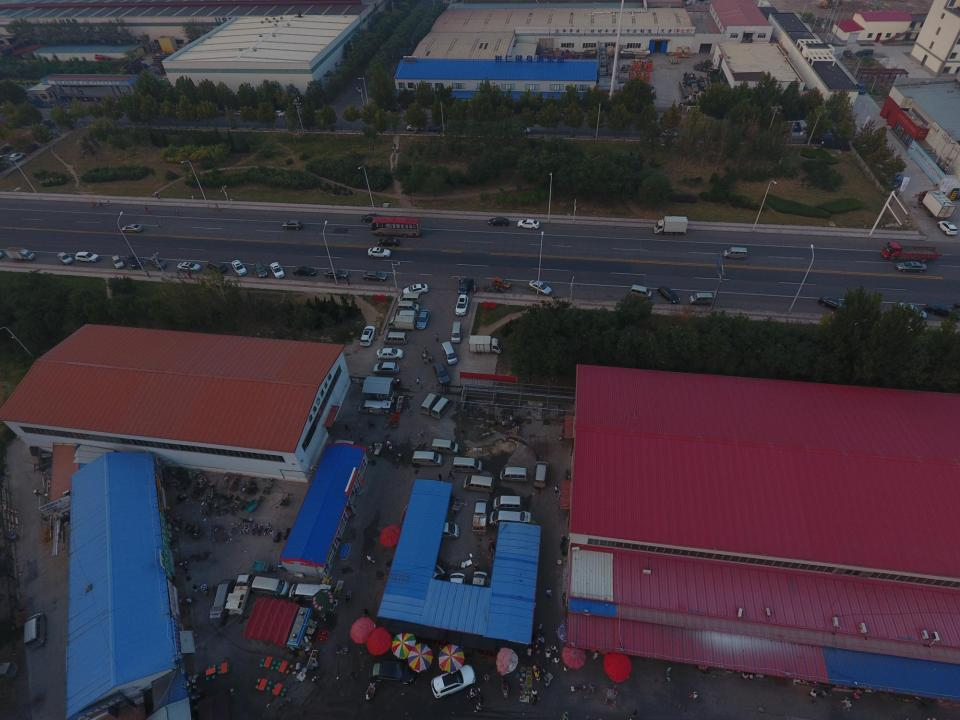bus: (368, 216, 422, 239)
car: (430, 665, 476, 698), (368, 661, 417, 684), (925, 302, 960, 321), (897, 302, 927, 320), (820, 296, 848, 312), (658, 285, 680, 304), (432, 361, 450, 384), (895, 261, 928, 273), (372, 361, 399, 375), (376, 347, 404, 360), (359, 326, 376, 346), (205, 259, 227, 274), (529, 280, 551, 295), (402, 283, 428, 295), (450, 572, 464, 594), (938, 220, 958, 235), (269, 261, 285, 279), (324, 268, 348, 280), (362, 271, 388, 282), (416, 309, 430, 329), (367, 246, 390, 258), (455, 295, 468, 316), (231, 260, 248, 276), (177, 261, 201, 272), (125, 253, 142, 268), (293, 266, 316, 277), (148, 256, 166, 270), (75, 252, 99, 262), (254, 261, 268, 278), (890, 174, 906, 188), (57, 252, 74, 265), (377, 237, 399, 247), (487, 217, 509, 227), (493, 276, 511, 288), (282, 221, 302, 231), (517, 220, 539, 229), (111, 255, 125, 268), (122, 224, 142, 233), (513, 126, 531, 135), (9, 152, 25, 162), (361, 214, 381, 222), (406, 124, 423, 132), (662, 128, 677, 137), (428, 125, 447, 132), (855, 82, 866, 94), (273, 110, 286, 118), (216, 110, 229, 116), (233, 110, 245, 116)
truck: (881, 240, 942, 262), (227, 572, 254, 615), (918, 189, 956, 219), (469, 334, 502, 356), (654, 216, 688, 235), (471, 499, 488, 534), (472, 570, 489, 600), (430, 523, 459, 540), (6, 246, 36, 262), (386, 316, 415, 330)
van: (210, 580, 235, 619), (24, 613, 48, 649), (252, 576, 289, 597), (288, 583, 328, 602), (489, 510, 531, 526), (462, 476, 494, 494), (431, 395, 453, 419), (452, 457, 482, 474), (412, 451, 442, 467), (431, 438, 459, 455), (500, 466, 528, 483), (358, 400, 391, 414), (421, 566, 444, 586), (493, 496, 522, 511), (421, 391, 439, 414), (441, 341, 458, 365), (534, 461, 548, 488), (0, 661, 20, 679), (724, 246, 747, 261), (629, 285, 651, 299), (384, 333, 408, 345), (690, 292, 712, 305), (397, 300, 420, 312), (457, 278, 473, 294), (397, 293, 420, 303), (451, 322, 461, 343), (396, 310, 417, 319)
